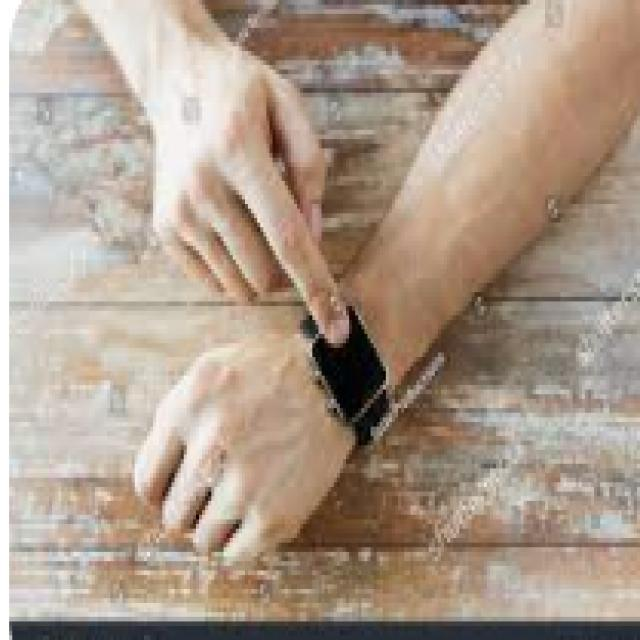Watch: (304, 296, 401, 444)
